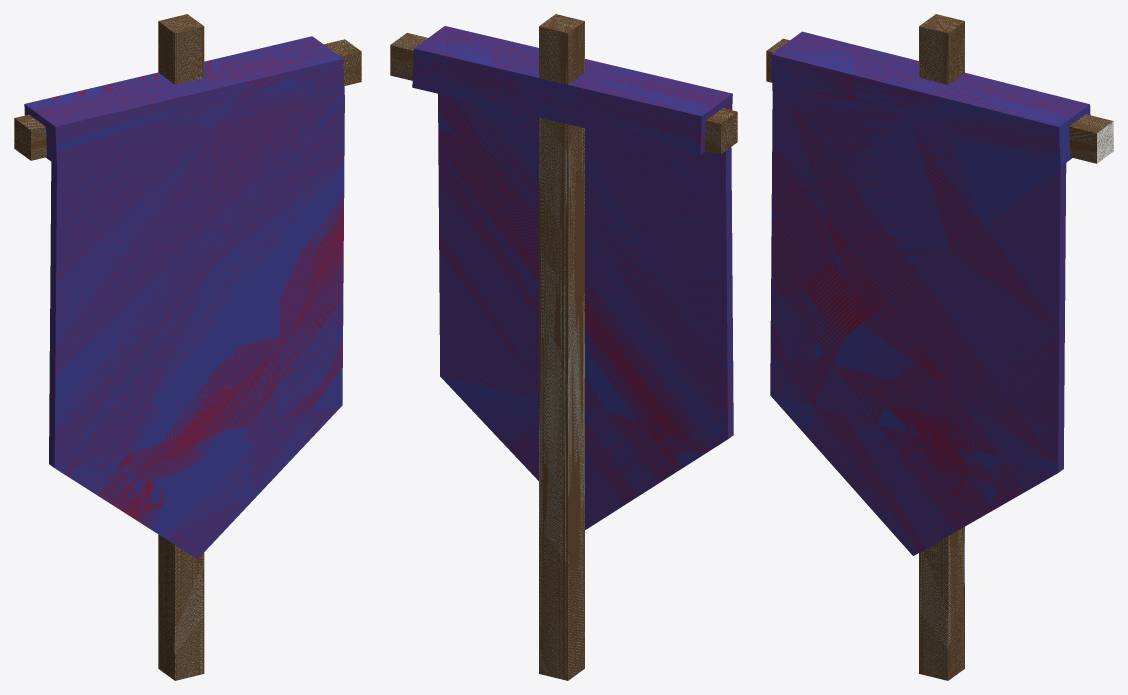
Rendered from Banner_Whole_01.fbx.
The picture shows the model from 3 angles, left to right: view 1: azimuth 30°, elevation 25°; view 2: azimuth 150°, elevation 25°; view 3: azimuth 330°, elevation 25°; orthographic projection.
Parts seen in each view (by area): view 1: Model; view 2: Model; view 3: Model.
Part boxes in pixels (<box>): Model: <box>14,14,361,680</box>; Model: <box>390,14,737,680</box>; Model: <box>766,14,1113,680</box>.
Size of the model in its own units: 244 by 457 by 39.77.
